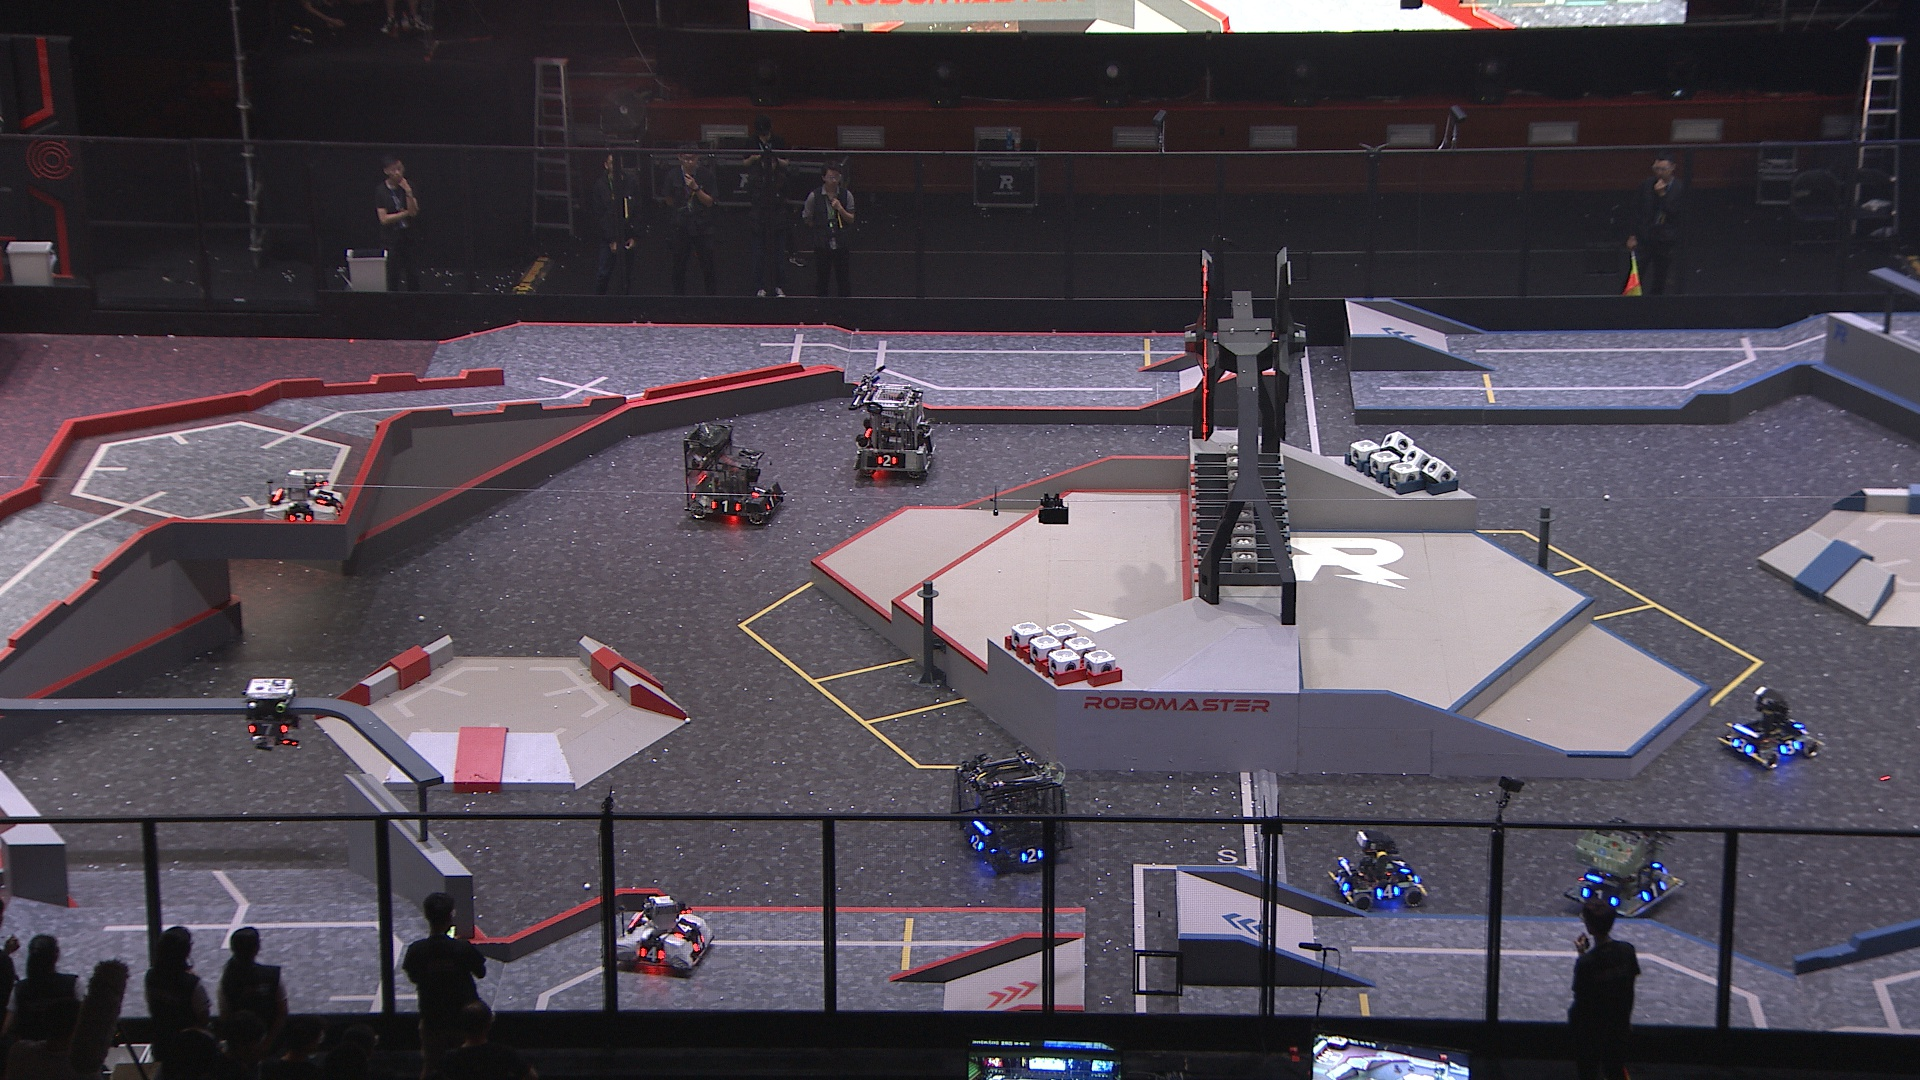armor: (1580, 884, 1617, 905), (707, 496, 744, 516), (245, 721, 290, 737), (1642, 880, 1669, 903), (637, 944, 667, 963), (1373, 884, 1403, 899), (671, 920, 694, 940), (1731, 737, 1755, 756), (1778, 738, 1803, 756), (1021, 847, 1046, 864), (1390, 856, 1411, 876), (285, 509, 314, 522), (688, 934, 707, 953), (967, 832, 984, 853), (873, 454, 899, 467), (1335, 874, 1352, 893), (765, 495, 781, 513), (314, 491, 334, 505), (749, 485, 769, 500)
car: (951, 744, 1079, 872), (1561, 820, 1685, 920), (679, 425, 787, 529), (1716, 687, 1822, 770), (851, 380, 936, 481), (1325, 831, 1428, 913), (609, 895, 712, 973), (261, 467, 348, 531)
watcher: (240, 676, 301, 750)
